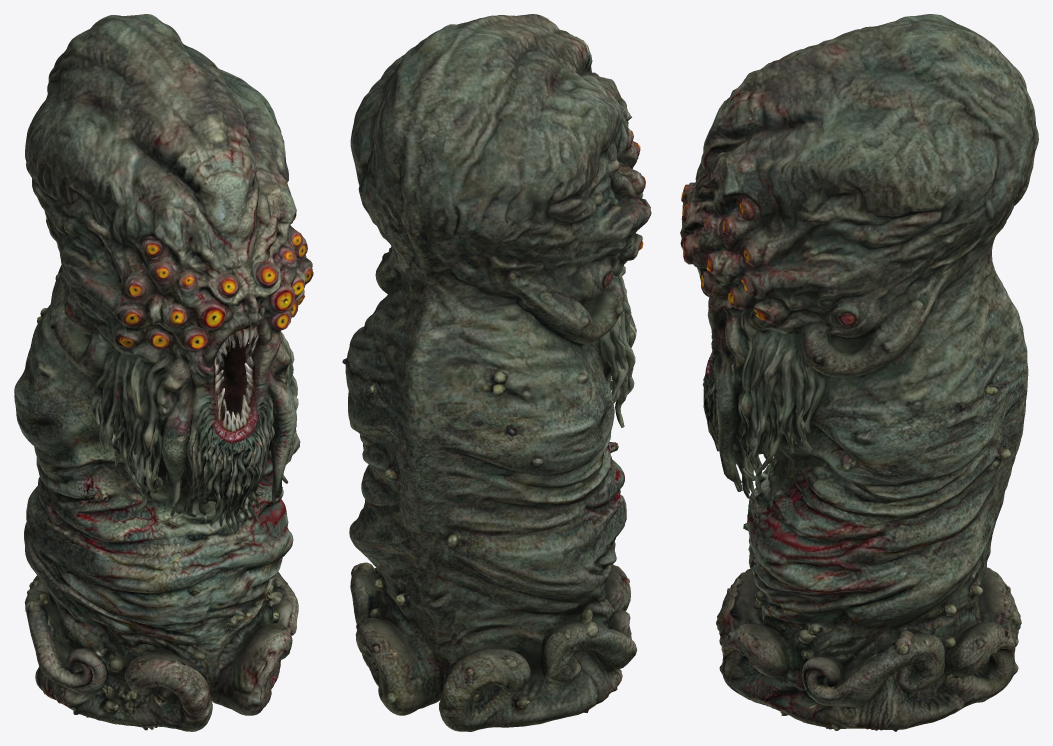
File: colossus.glb
3 views of the same model, side by side, from view 1: azimuth 30°, elevation 25°; view 2: azimuth 150°, elevation 25°; view 3: azimuth 270°, elevation 25° (orthographic). The views are drawn at different scales.
Visible parts, largest first — view 1: tripo_node_7a0900d4-d966-4f31-b75c-2a8f45f679af; view 2: tripo_node_7a0900d4-d966-4f31-b75c-2a8f45f679af; view 3: tripo_node_7a0900d4-d966-4f31-b75c-2a8f45f679af.
Part boxes in pixels (left/top/right/bottom): tripo_node_7a0900d4-d966-4f31-b75c-2a8f45f679af: left=14, top=14, right=313, bottom=731; tripo_node_7a0900d4-d966-4f31-b75c-2a8f45f679af: left=342, top=14, right=651, bottom=731; tripo_node_7a0900d4-d966-4f31-b75c-2a8f45f679af: left=680, top=14, right=1038, bottom=731.
Size of the model in its own units: 11.39 by 27.5 by 13.42.
Materials: 1 (1 with a texture image).
